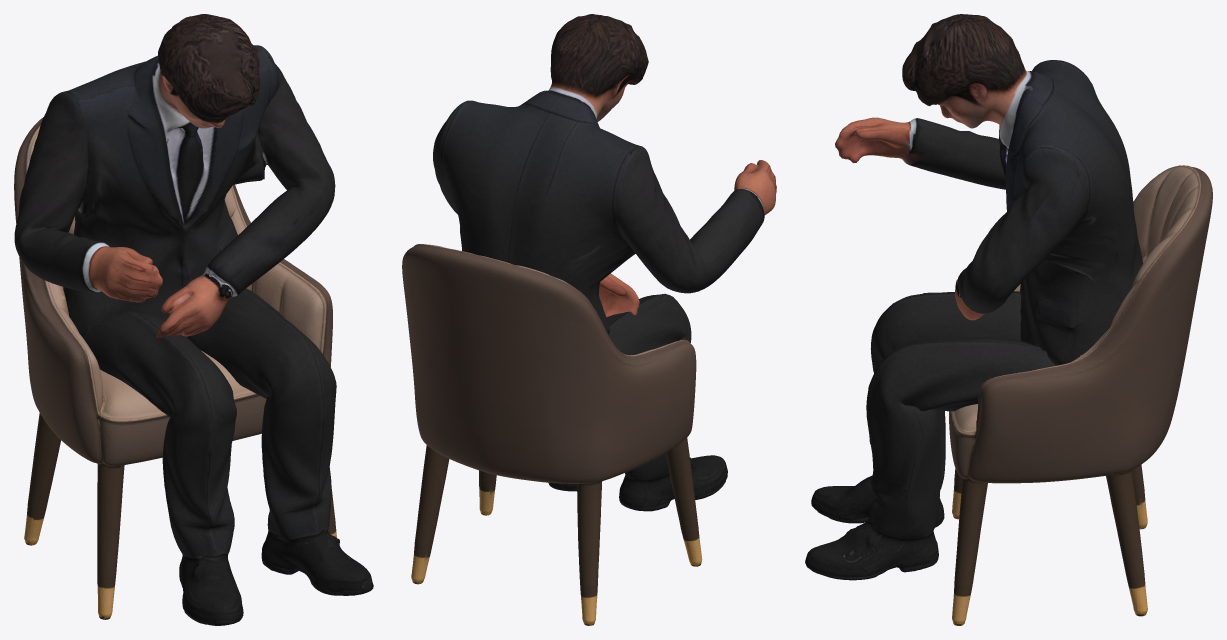
The model's file is sitting-character-final.glb.
3 renders of one model, left to right at view 1: azimuth 30°, elevation 25°; view 2: azimuth 150°, elevation 25°; view 3: azimuth 270°, elevation 25°, orthographic. The views are drawn at different scales.
Visible parts, largest first — view 1: character, chair; view 2: chair, character; view 3: character, chair.
Part boxes in pixels (x1,y1,x2,y2): character: [14, 14, 373, 625]; chair: [14, 117, 336, 619]; chair: [402, 244, 702, 625]; character: [433, 14, 776, 511]; character: [805, 14, 1142, 580]; chair: [949, 165, 1212, 625].
Size of the model in its own units: 0.7122 by 1.3 by 0.8786.
Materials: 2 (2 with a texture image).
